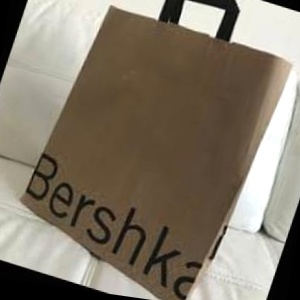bershka: (180, 124, 262, 300)
